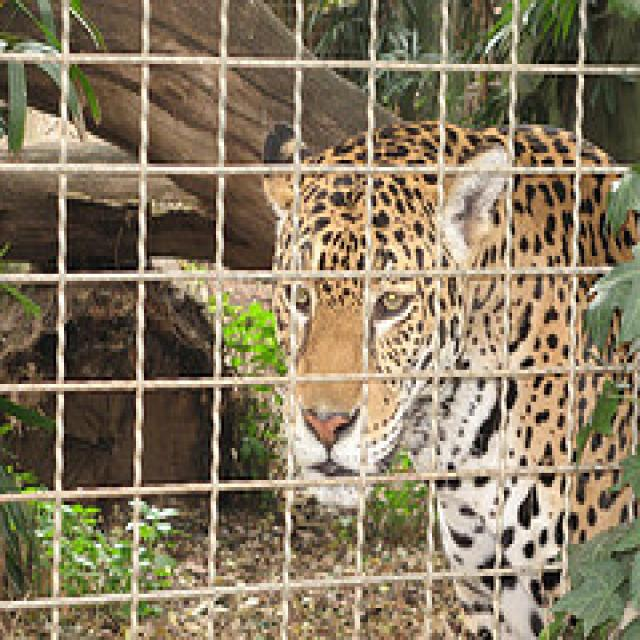Leopard: (258, 117, 634, 633)
